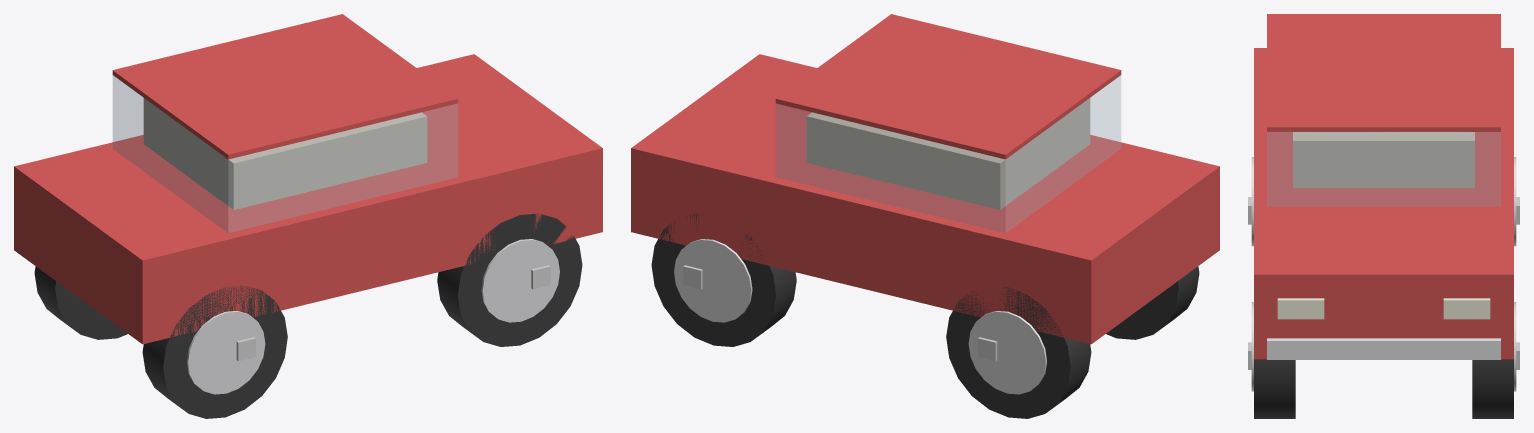
The model's file is de_carModel_pico.glb.
3 views of the same model, side by side, from view 1: azimuth 30°, elevation 25°; view 2: azimuth 150°, elevation 25°; view 3: azimuth 270°, elevation 25° (orthographic).
Parts seen in each view (by area): view 1: PlaceholderCar; view 2: PlaceholderCar; view 3: PlaceholderCar.
Boxes of the visible parts, bbox=[...] form: PlaceholderCar: bbox=[14, 14, 602, 418]; PlaceholderCar: bbox=[631, 14, 1219, 418]; PlaceholderCar: bbox=[1248, 14, 1519, 418].
Size of the model in its own units: 3.14 by 1.64 by 1.57.
